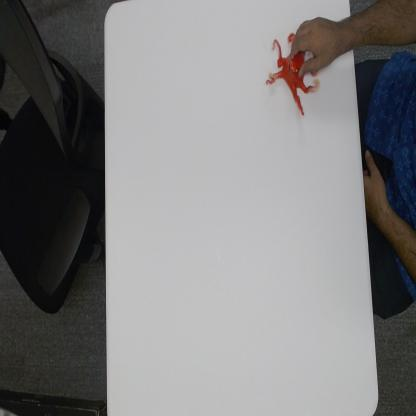Hand: (290, 15, 350, 79)
Octopus: (264, 30, 320, 117)
